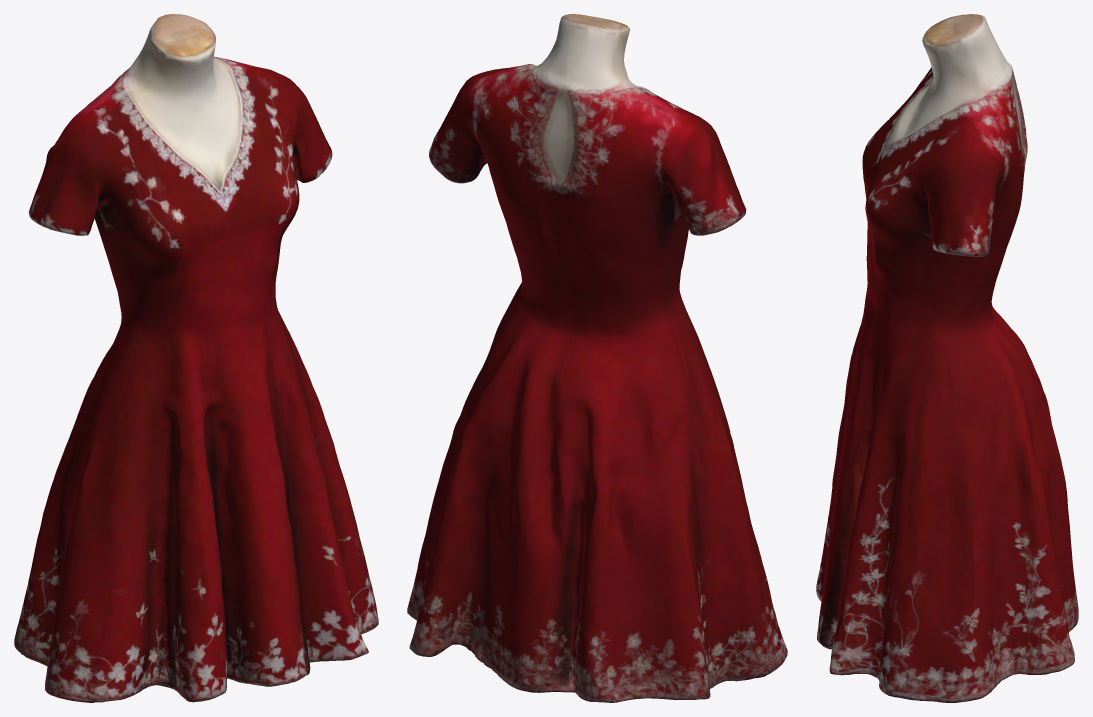
The model's file is job_1743890040_refined.glb.
3 views of the same model, side by side, from view 1: azimuth 30°, elevation 25°; view 2: azimuth 150°, elevation 25°; view 3: azimuth 270°, elevation 25° (orthographic). The views are drawn at different scales.
Size of the model in its own units: 1.12 by 2 by 0.7847.
Materials: 1 (1 with a texture image).
